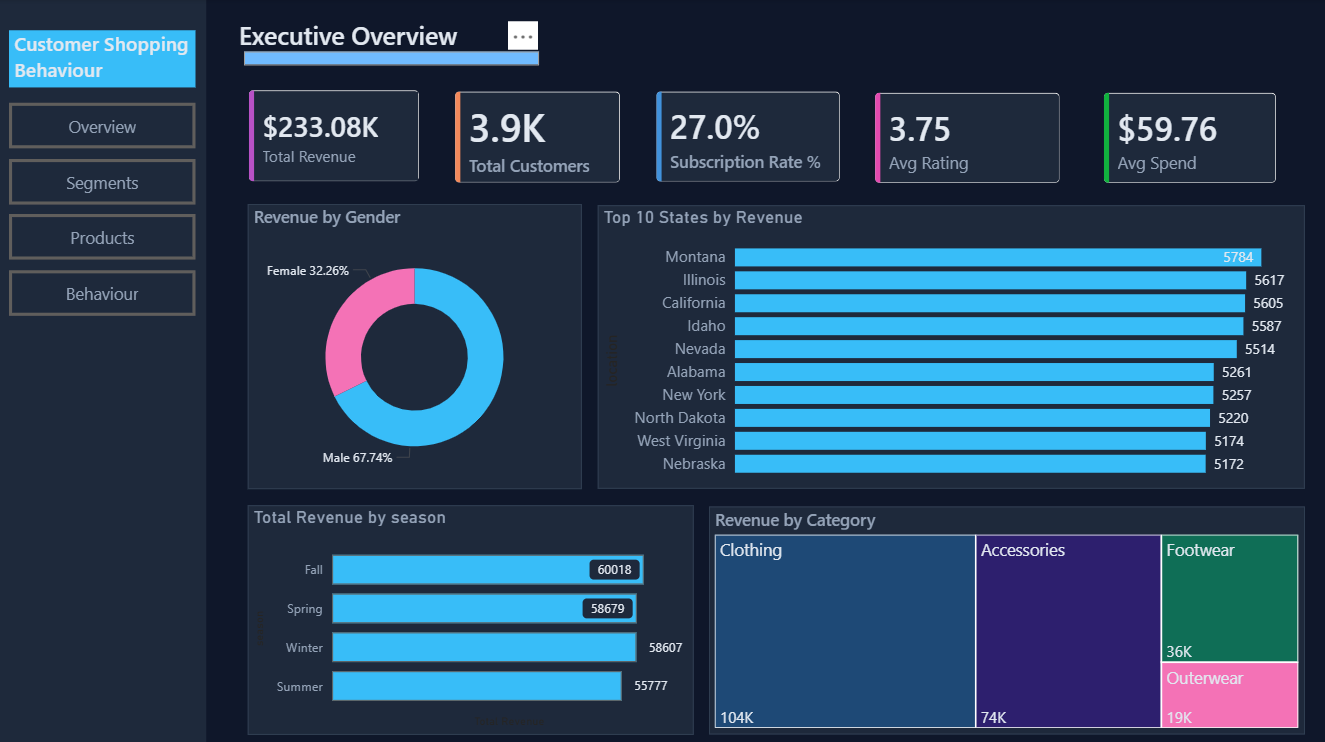

Layout of this report page (visuals, bound fields, positions):
{"tool":"powerbi","page":{"name":"Overview","canvas":[1280,720],"ordinal":0},"visuals":[{"type":"textbox","box":[0,0,200,720],"z":0},{"type":"textbox","box":[225,15,225,68.8],"z":1000},{"type":"actionButton","title":"Overview","box":[10,100,180,44],"z":2000},{"type":"actionButton","title":"Segments","box":[10,154,180,44],"z":3000},{"type":"actionButton","title":"Products","box":[10,208,180,44],"z":4000},{"type":"actionButton","title":"Behaviour","box":[10,262,180,44],"z":5000},{"type":"textbox","title":"Customer Shopping Behaviour","box":[9.7,30.2,179.8,55.5],"z":6000},{"type":"cardVisual","fields":{"Data":["_Measures (3).Total Revenue"]},"box":[225,71.2,198.8,122.5],"z":7000},{"type":"cardVisual","fields":{"Data":["_Measures (3).Total Customers"]},"box":[423.8,72.5,193.8,122.5],"z":8000},{"type":"cardVisual","fields":{"Data":["_Measures (3).Subscription Rate %"]},"box":[617.5,72.5,211.2,121.2],"z":9000},{"type":"cardVisual","fields":{"Data":["_Measures (3).Avg Rating"]},"box":[828.8,73.8,212.5,121.2],"z":10000},{"type":"cardVisual","fields":{"Data":["_Measures (3).Avg Spend"]},"box":[1050,73.8,200,121.2],"z":11000},{"type":"donutChart","title":"Revenue by Gender","fields":{"Category":["customer_behaviour customer.gender"],"Y":["_Measures (3).Total Revenue"]},"box":[240,197.5,322.5,275],"z":12000},{"type":"clusteredBarChart","fields":{"Category":["customer_behaviour customer.season"],"Y":["_Measures (3).Total Revenue"]},"box":[240,488.8,430,221.2],"z":13000},{"type":"treemap","title":"Revenue by Category","fields":{"Group":["customer_behaviour customer.category"],"Values":["_Measures (3).Total Revenue"]},"box":[685,490,575,220],"z":14000},{"type":"clusteredBarChart","title":"Top 10 States by Revenue","fields":{"Category":["customer_behaviour customer.location"],"Y":["_Measures (3).Total Revenue"]},"box":[577.5,198.8,682.5,273.8],"z":15000},{"type":"shape","box":[236.2,51.2,285,12.5],"z":16000}]}

Visuals, with their boxes in screenshot pixels (x1, y1, x2, y2), scaled from the page's 1280x720 canvas onto the 1325x742 screenshot:
textbox: rect(0, 0, 207, 741)
textbox: rect(233, 15, 466, 86)
"Overview" actionButton: rect(10, 103, 197, 148)
"Segments" actionButton: rect(10, 159, 197, 204)
"Products" actionButton: rect(10, 214, 197, 260)
"Behaviour" actionButton: rect(10, 270, 197, 315)
"Customer Shopping Behaviour" textbox: rect(10, 31, 196, 88)
cardVisual - _Measures (3).Total Revenue: rect(233, 73, 439, 200)
cardVisual - _Measures (3).Total Customers: rect(439, 75, 639, 201)
cardVisual - _Measures (3).Subscription Rate %: rect(639, 75, 858, 200)
cardVisual - _Measures (3).Avg Rating: rect(858, 76, 1078, 201)
cardVisual - _Measures (3).Avg Spend: rect(1087, 76, 1294, 201)
"Revenue by Gender" donutChart: rect(248, 204, 582, 487)
clusteredBarChart - customer_behaviour customer.season x _Measures (3).Total Revenue: rect(248, 504, 694, 732)
"Revenue by Category" treemap: rect(709, 505, 1304, 732)
"Top 10 States by Revenue" clusteredBarChart: rect(598, 205, 1304, 487)
shape: rect(245, 53, 540, 66)
